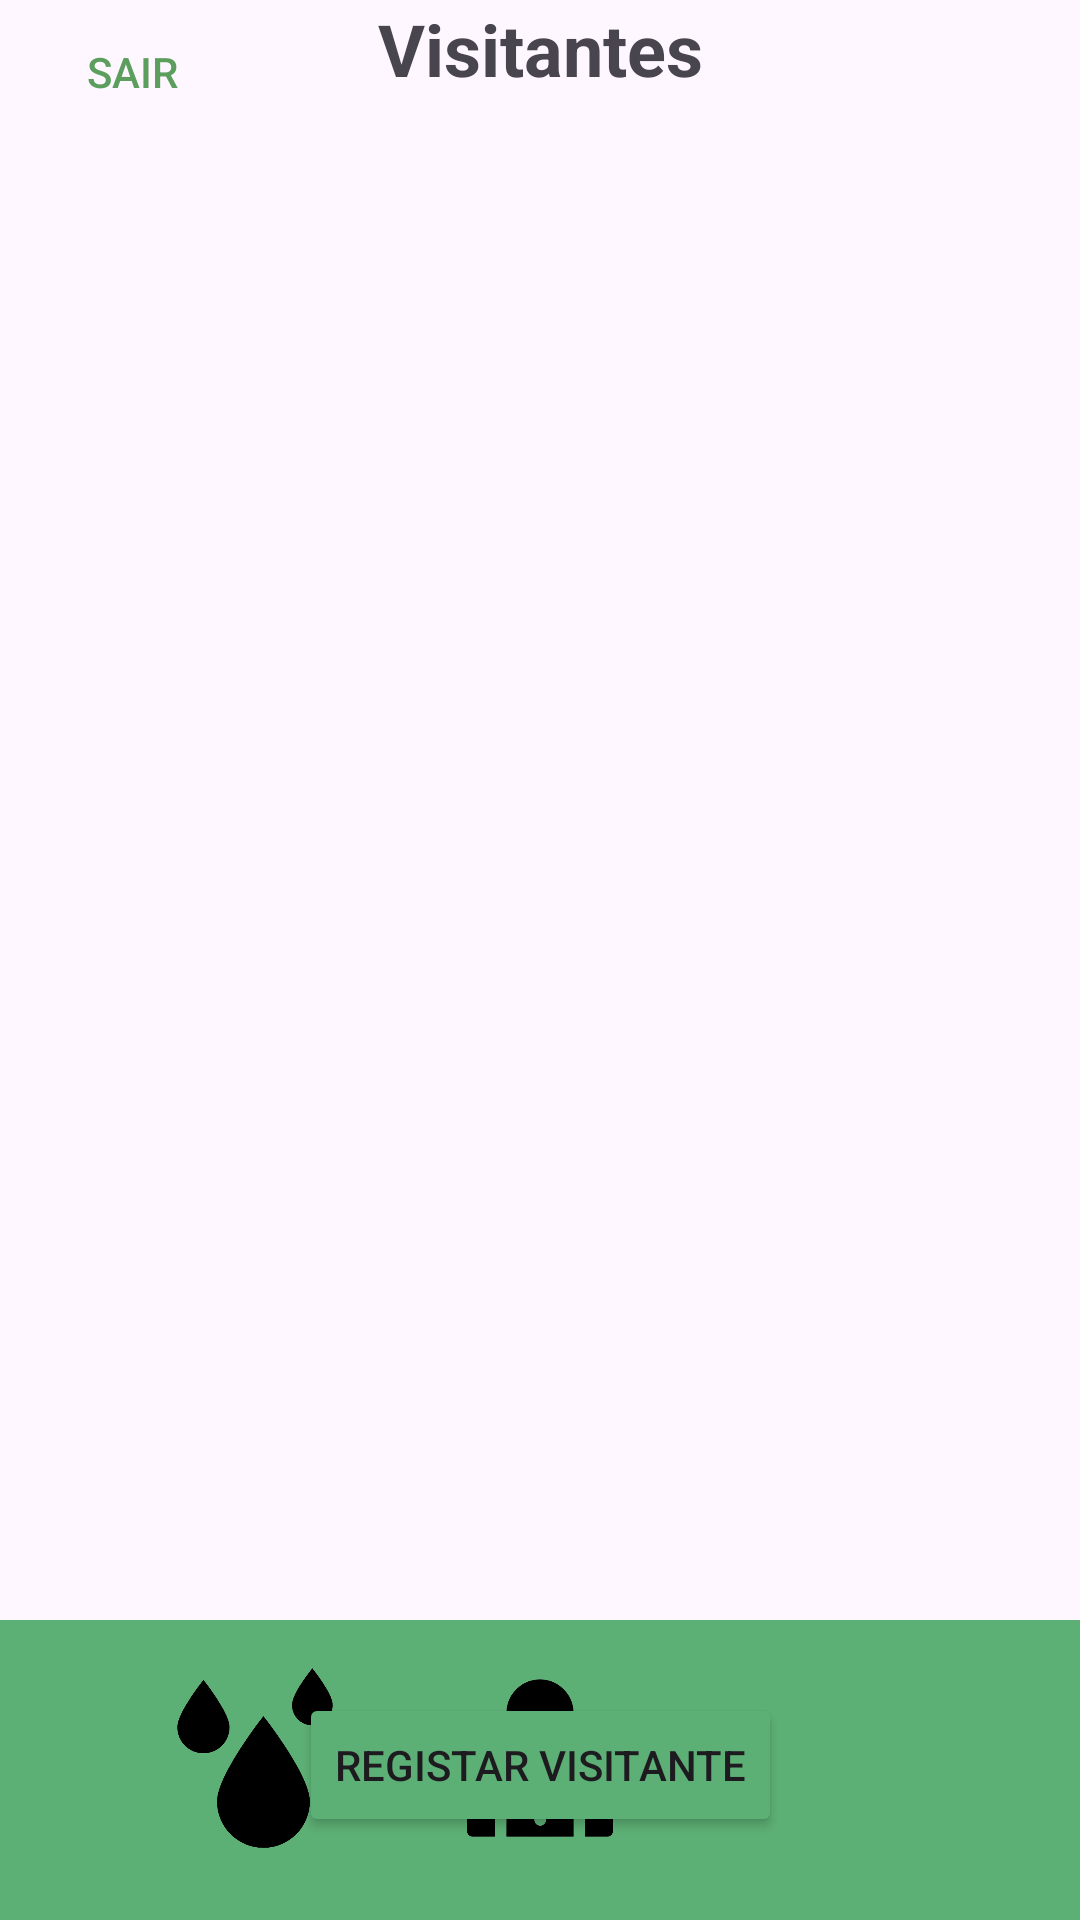

Icon click points for this 1080px×1920px phone screenshot, format point (x, y):
rega: point (255, 1758)
